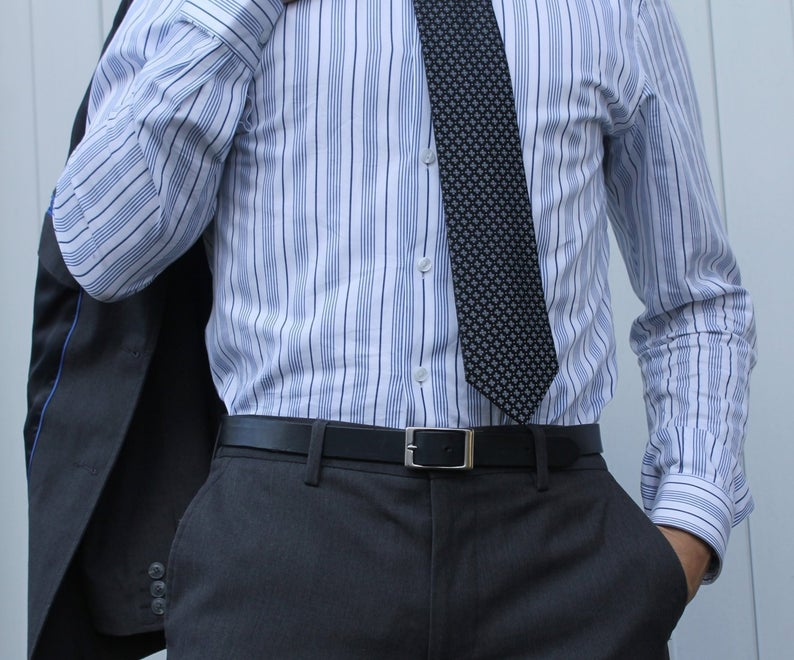F_belt: (198, 404, 610, 469)
F_dress pants: (156, 428, 691, 654)
F_shirt: (62, 1, 762, 539)
F_tie: (402, 5, 560, 420)
